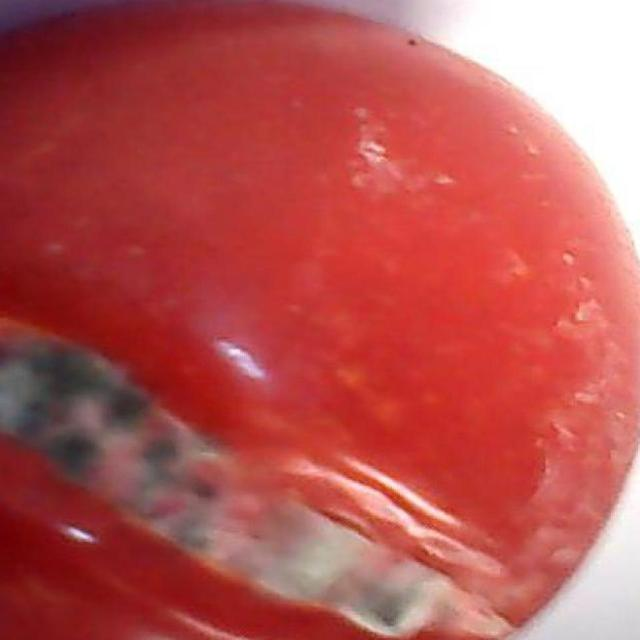Cracking Fruit: (0, 224, 372, 427)
